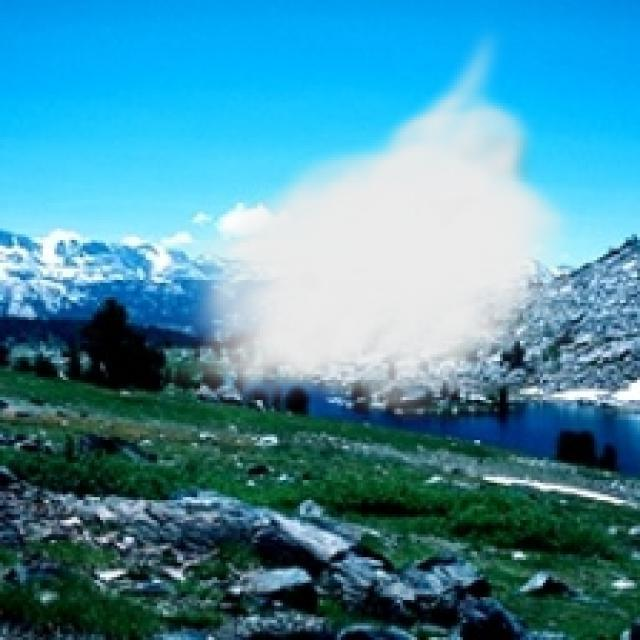Smoke: (166, 23, 583, 423)
